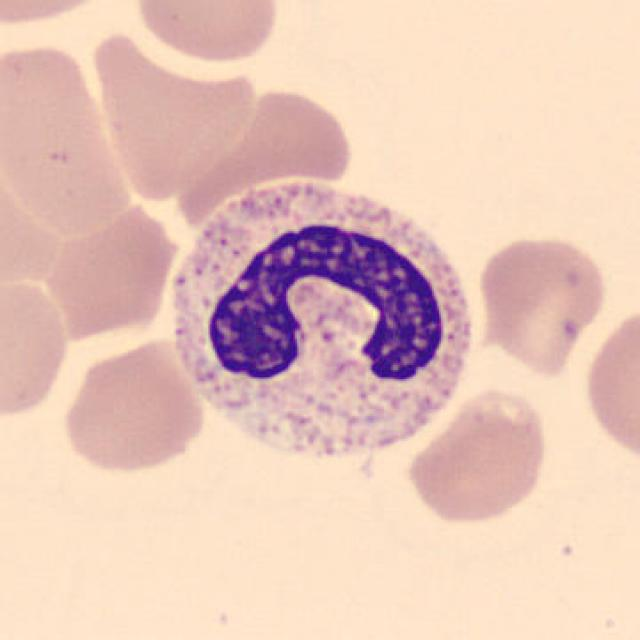Neutrophil: (164, 175, 482, 480)
RBC: (0, 35, 137, 240), (57, 335, 210, 478), (404, 383, 551, 529), (473, 231, 610, 379), (39, 199, 183, 337), (238, 85, 358, 187), (0, 274, 75, 422), (579, 299, 640, 469), (132, 0, 282, 67), (0, 0, 123, 32)
